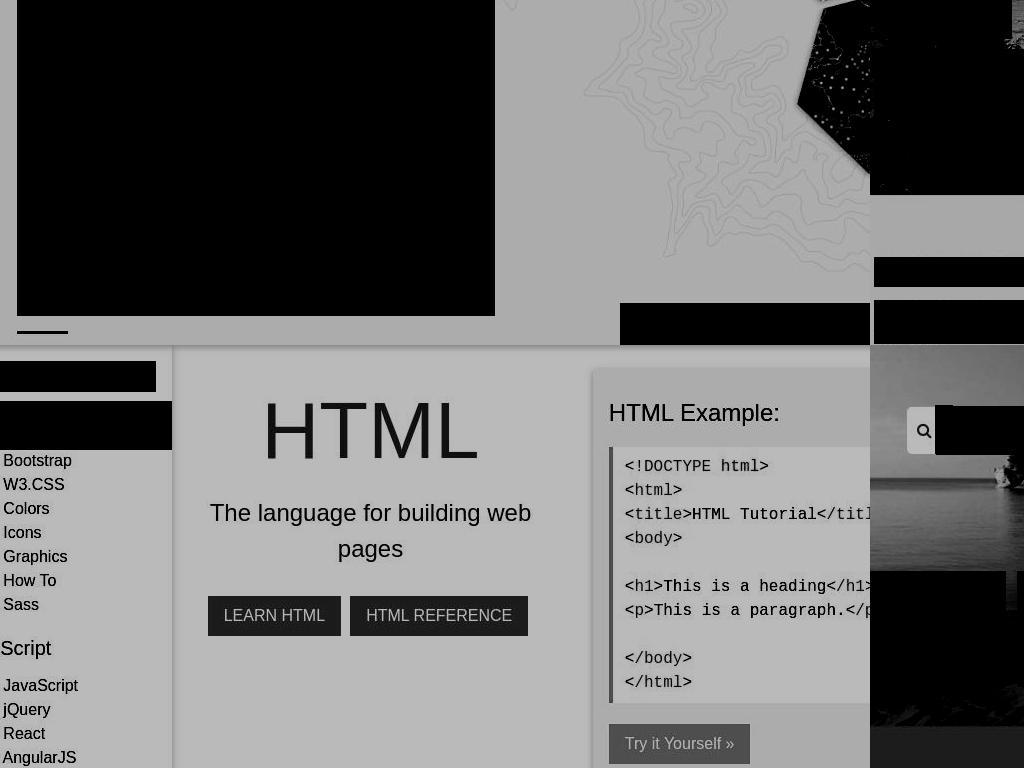button: (870, 571, 1006, 687), (350, 595, 529, 636), (608, 723, 751, 764), (207, 595, 342, 636), (0, 401, 172, 426), (0, 425, 172, 450), (0, 449, 172, 474), (0, 473, 172, 498), (0, 497, 172, 522), (0, 521, 172, 546), (0, 545, 172, 570), (0, 569, 172, 594), (0, 593, 172, 618), (0, 673, 172, 698), (0, 697, 172, 722), (0, 721, 172, 746), (0, 745, 172, 768)
heading: (17, 0, 495, 316), (195, 370, 546, 491), (874, 49, 1024, 118), (608, 394, 870, 431), (0, 361, 156, 392), (0, 633, 156, 664)
image: (882, 591, 932, 640), (17, 331, 68, 334)
label: (935, 405, 953, 454)
text: (195, 494, 546, 567), (874, 0, 1012, 39), (653, 601, 846, 620), (663, 577, 827, 596), (874, 300, 1024, 319), (692, 505, 818, 524), (870, 640, 958, 666), (634, 457, 712, 476), (711, 457, 760, 476), (634, 505, 683, 524), (634, 649, 683, 668), (634, 673, 683, 692), (826, 505, 870, 524), (634, 481, 674, 500), (634, 529, 674, 548), (836, 577, 866, 596), (634, 577, 655, 596), (855, 601, 870, 620), (759, 457, 770, 476), (682, 505, 693, 524), (826, 577, 837, 596), (634, 601, 645, 620), (644, 601, 655, 620), (682, 649, 693, 668), (682, 673, 693, 692), (624, 457, 634, 476), (624, 481, 634, 500), (672, 481, 682, 500), (624, 505, 634, 524), (816, 505, 826, 524), (624, 529, 634, 548), (672, 529, 682, 548), (624, 577, 634, 596), (653, 577, 663, 596), (624, 601, 634, 620), (845, 601, 855, 620), (624, 649, 634, 668), (624, 673, 634, 692), (864, 577, 870, 596)
